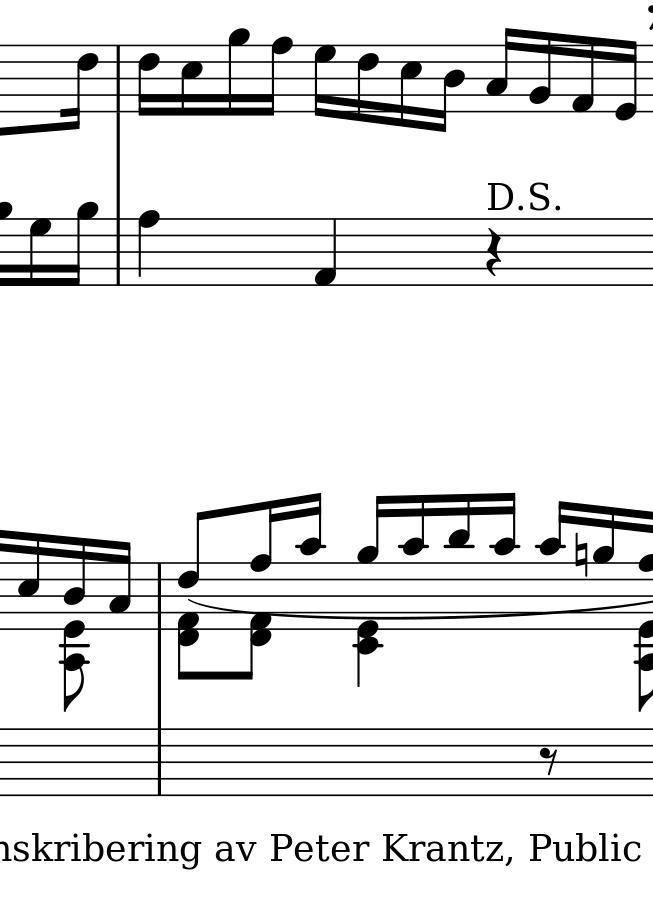16_0: (613, 38, 639, 124)
16_1: (570, 33, 596, 115)
16_10: (539, 499, 566, 631), (298, 493, 324, 630), (402, 494, 428, 631), (491, 493, 517, 630)
16_11: (446, 494, 473, 631)
16_2: (528, 29, 553, 114)
16_3: (485, 26, 516, 112), (16, 532, 42, 632), (108, 538, 131, 629)
16_4: (435, 42, 466, 134)
16_5: (397, 42, 423, 131), (178, 43, 204, 118)
16_6: (65, 43, 99, 132), (356, 41, 380, 126), (136, 41, 161, 119)
16_7: (26, 214, 52, 288), (312, 44, 336, 118)
16_8: (261, 36, 292, 117)
16_9: (591, 505, 616, 630), (65, 199, 95, 291), (225, 24, 249, 123)
4_1: (312, 219, 338, 288)
4_8: (136, 209, 160, 285)
DS: (487, 178, 559, 213)
Natural: (573, 530, 590, 579)
Rests4: (484, 226, 505, 278)
Rests8: (538, 745, 561, 776)
Single_barline: (110, 45, 127, 113), (110, 218, 127, 284), (151, 563, 168, 626), (152, 729, 167, 794)
